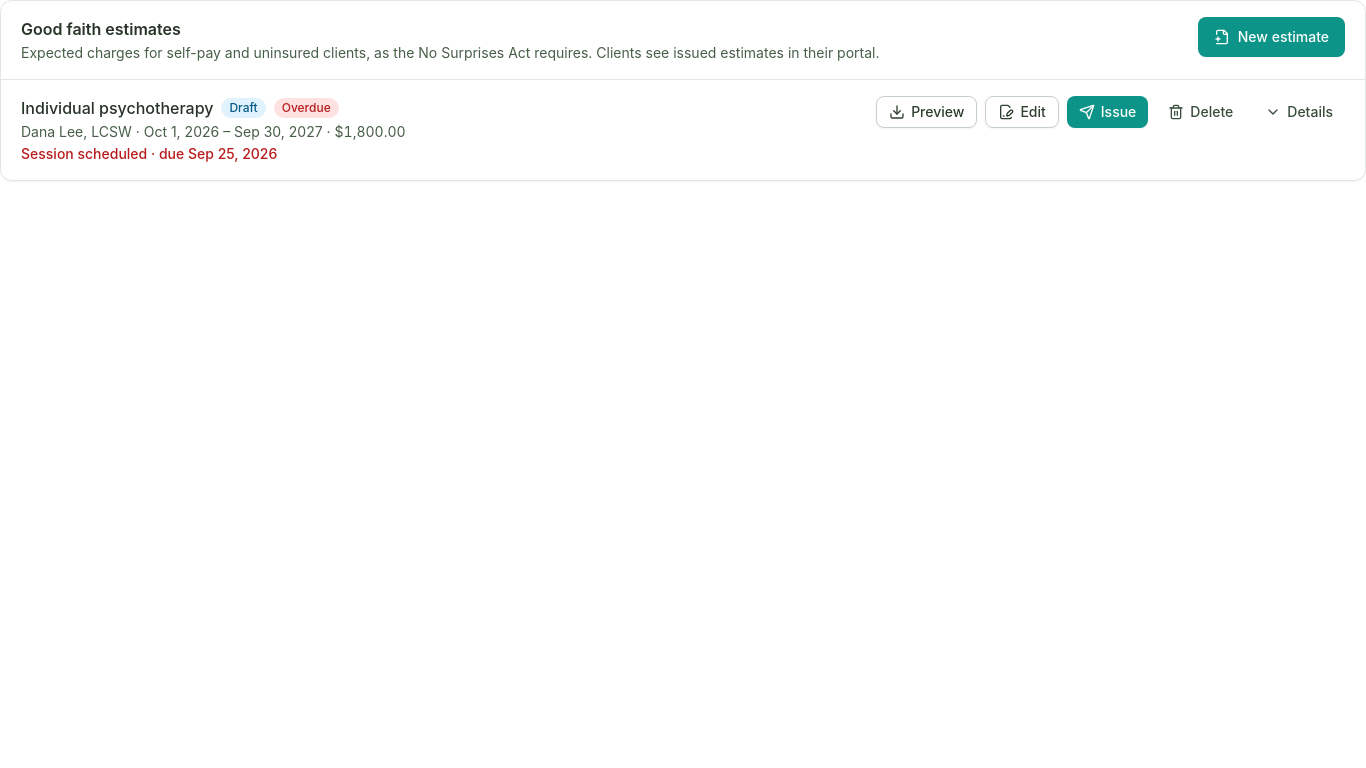
Test case: ClientEstimatesTab › won't issue until the provider and client details the estimate needs are in
Click the button "Issue": {"x": 1108, "y": 112} [1067,96,1148,128]
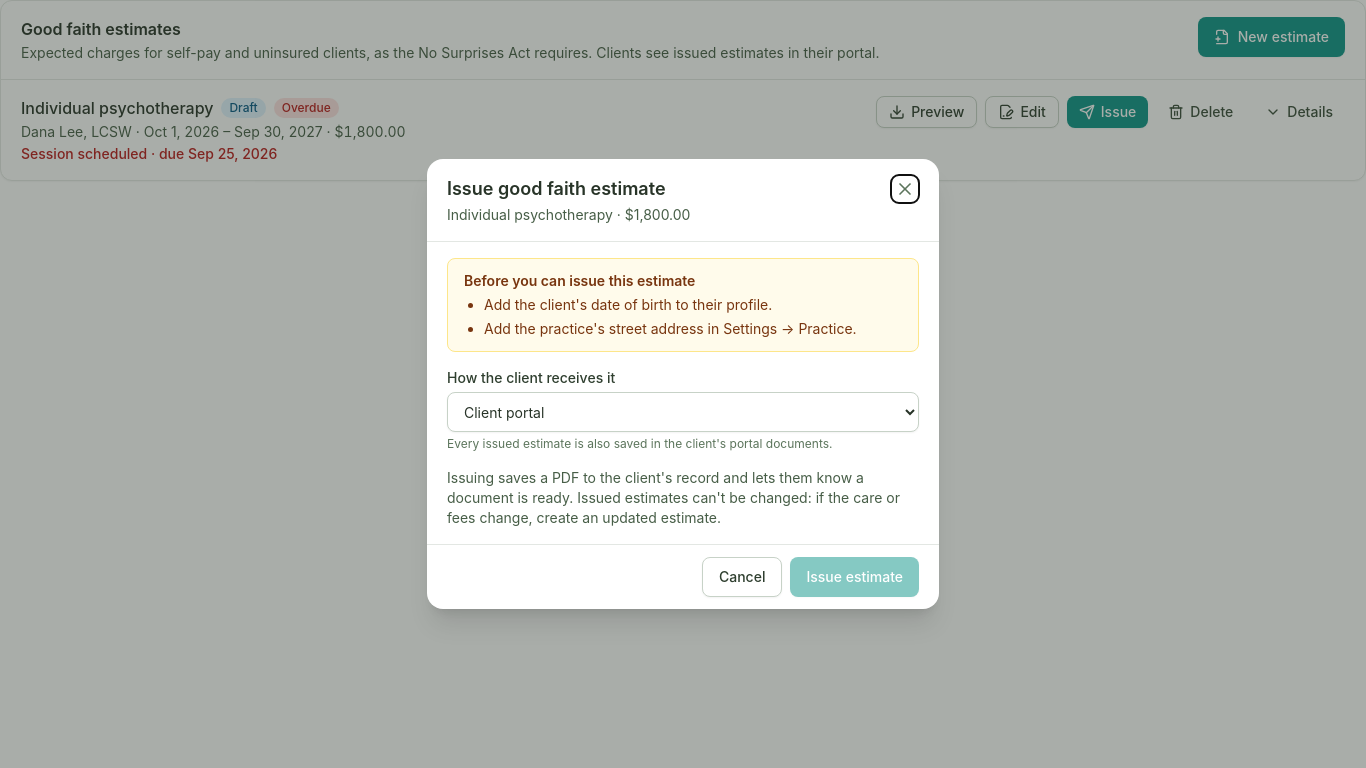
expect the list item "Add the client's date of birth to their profile." is shown: met, box [484,296,772,313]
expect the list item "Add the practice's street address in Settings → Practice." is shown: met, box [484,319,902,339]
expect the button "Issue estimate" is disabled: met, box [790,557,919,597]
